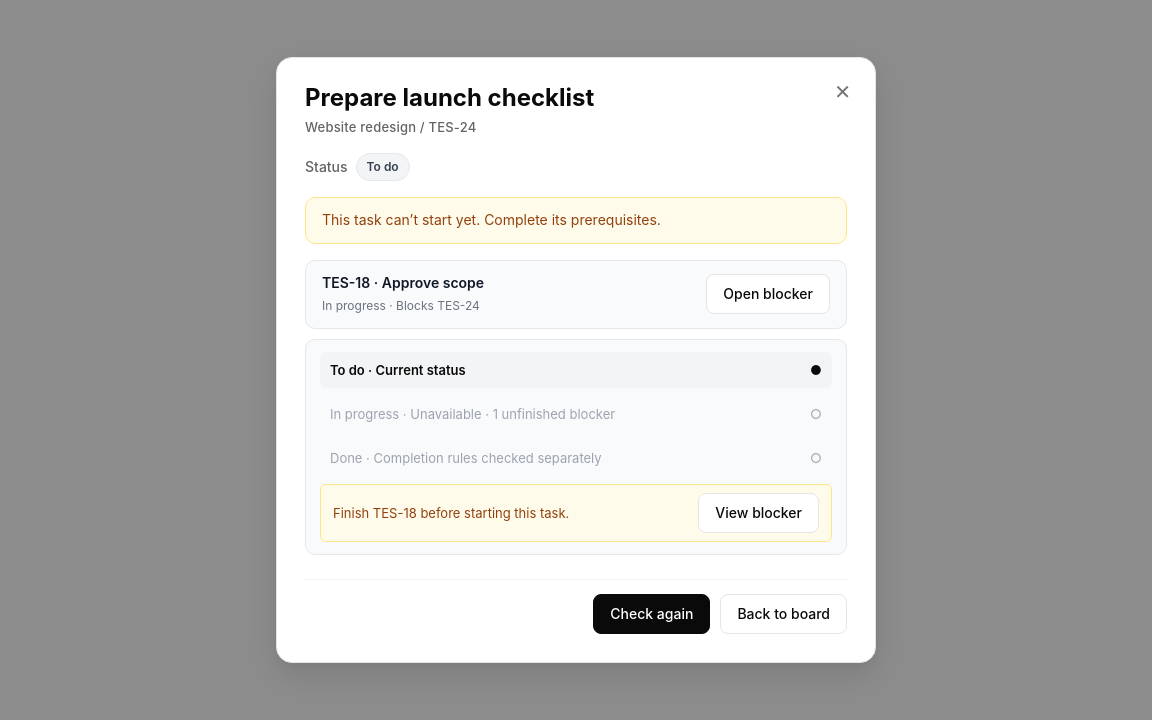
Test: BlockedTaskStartModal › renders State 05 & 06: rechecks prerequisites, shows progress and displays State 06 when resolved
Click the button with test id "check-again-btn": click(652, 614) [593,594,710,634]
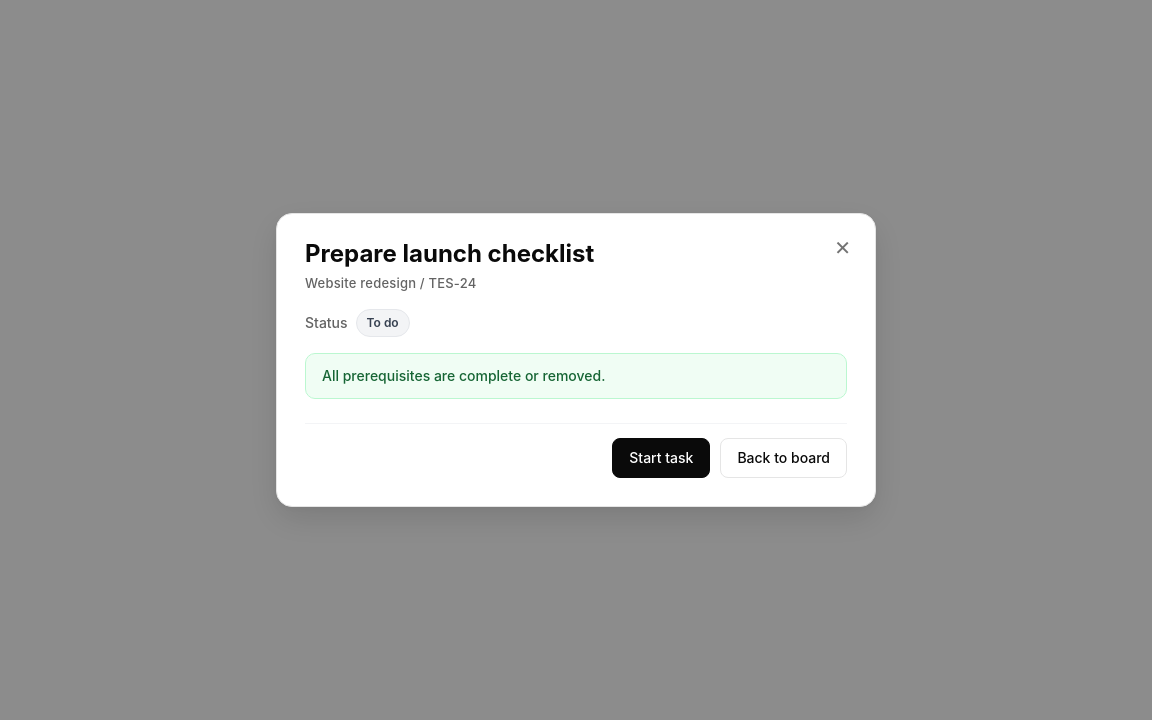
Expected: the message with test id "all-prerequisites-complete-banner" reads "All prerequisites are complete or removed.", [322,367,605,384]
Expected: the button with test id "start-task-btn" is shown, [612,438,710,478]
